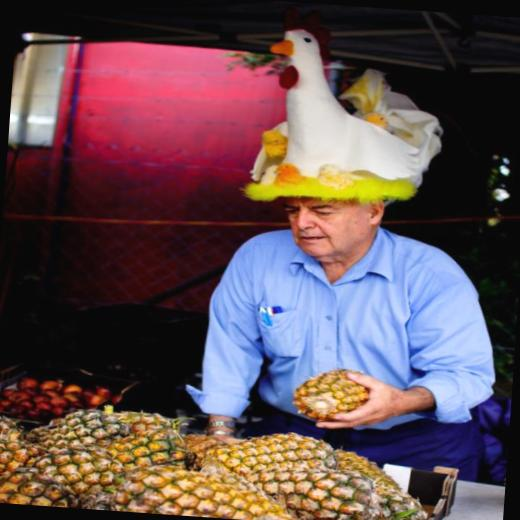Mango: (0, 398, 433, 520), (290, 364, 372, 424)
